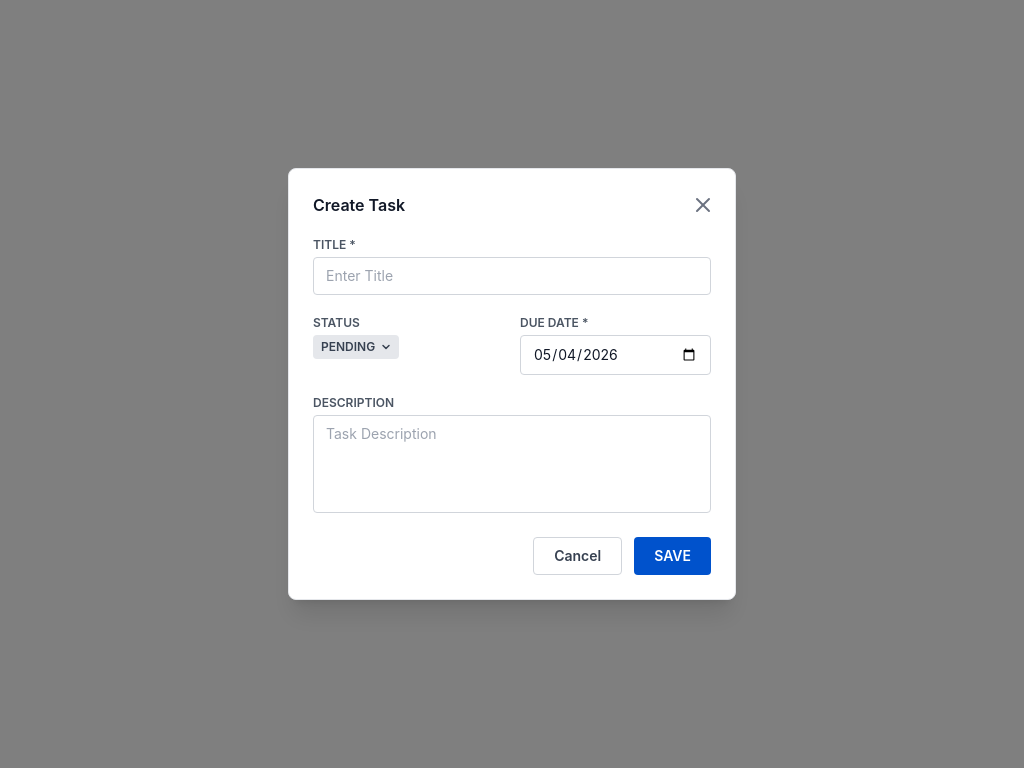
Test: TaskFormModal (create modal) › shows title required error on empty submit
The width and height of the screenshot is (1024, 768).
What coordinates should you click on to do the following:
click the button "Save"
I would click on:
 (673, 556)
Its box is [634, 537, 711, 575].
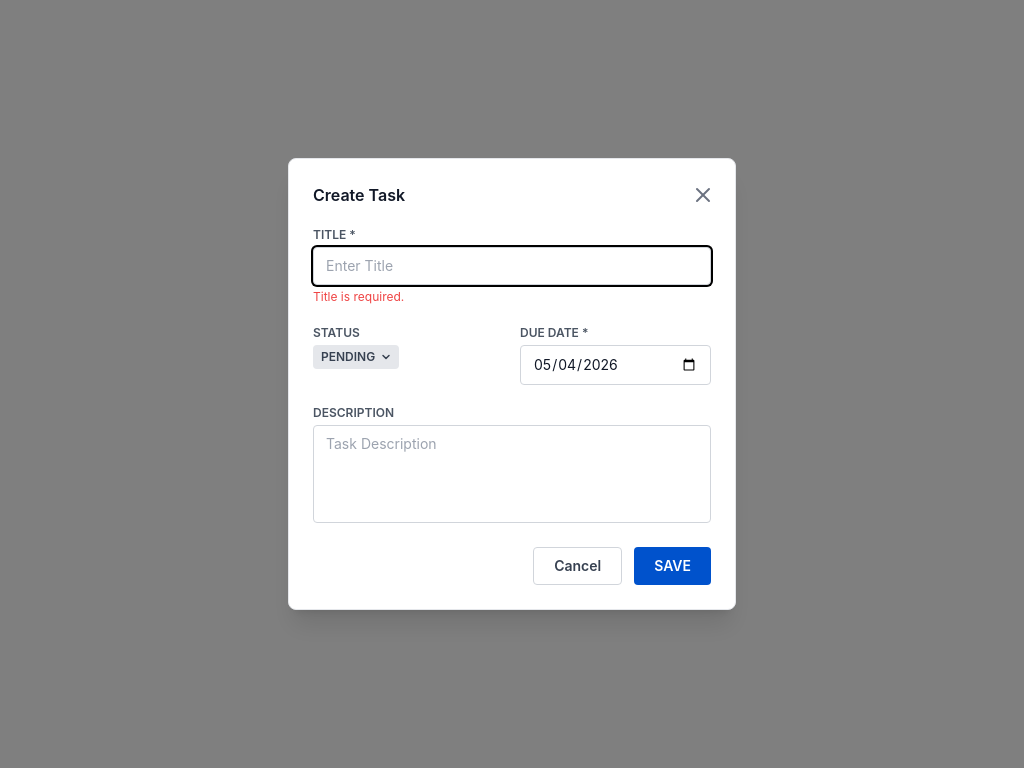
Check: the message shows "Title is required", box [313, 289, 404, 304]
